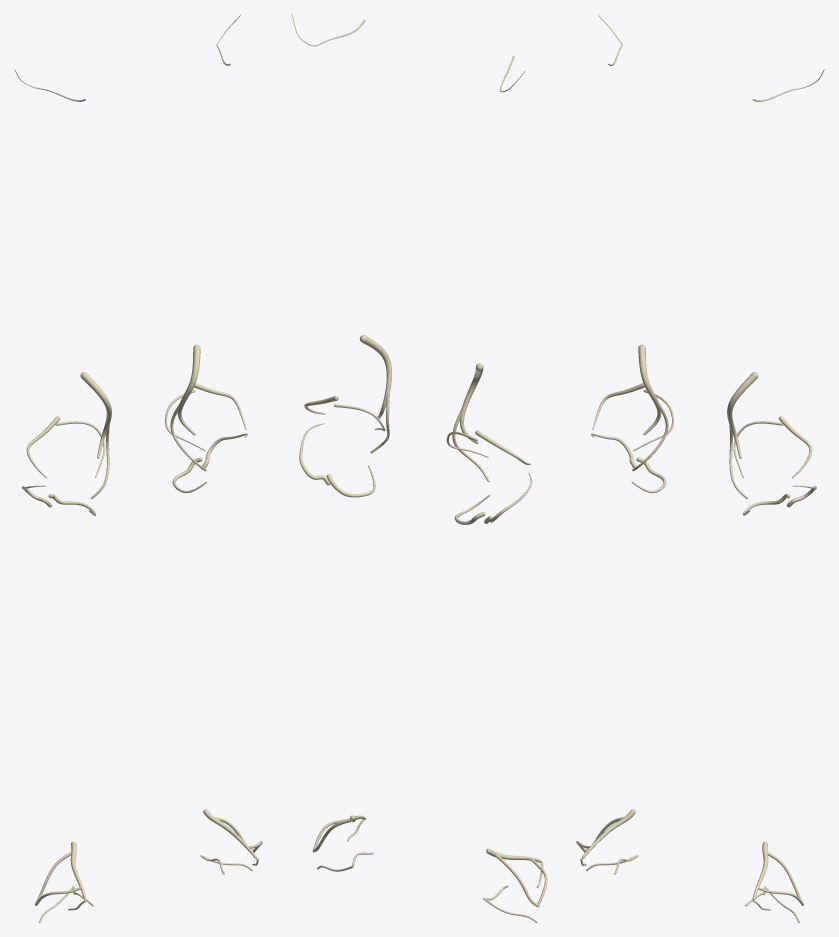
The model's file is bodyparts3d-arterial-lower-limb.glb.
The picture shows the model from 3 angles, left to right: view 1: azimuth 30°, elevation 25°; view 2: azimuth 150°, elevation 25°; view 3: azimuth 330°, elevation 25°; orthographic projection. The views are drawn at different scales.
Visible parts, largest first — view 1: arterial-fma22508, arterial-fma22507; view 2: arterial-fma22508, arterial-fma22507; view 3: arterial-fma22507, arterial-fma22508.
Boxes of the visible parts, <box> form: arterial-fma22508: <box>170,344,206,471</box>; arterial-fma22507: <box>80,372,111,498</box>; arterial-fma22508: <box>359,335,391,453</box>; arterial-fma22507: <box>452,363,489,481</box>; arterial-fma22507: <box>632,344,668,471</box>; arterial-fma22508: <box>727,372,758,498</box>.
Size of the model in its own units: 0.2411 by 0.8547 by 0.0962.
